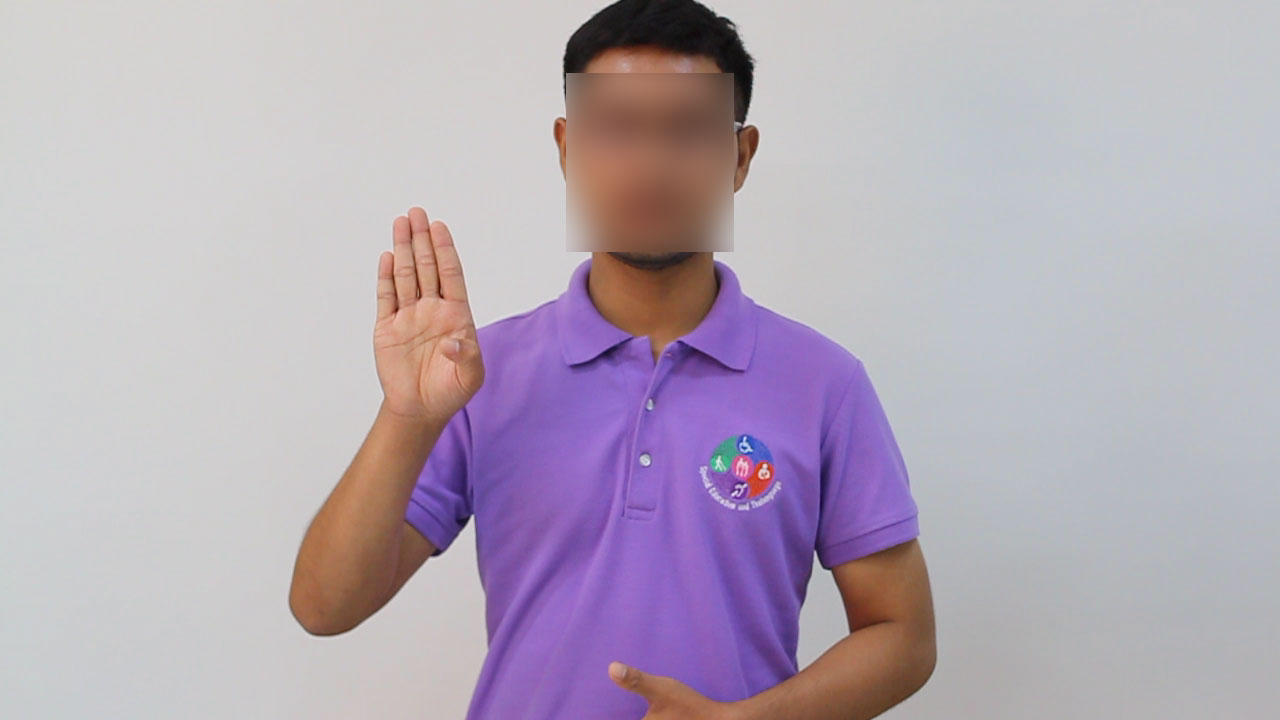bor: (362, 190, 495, 449)
